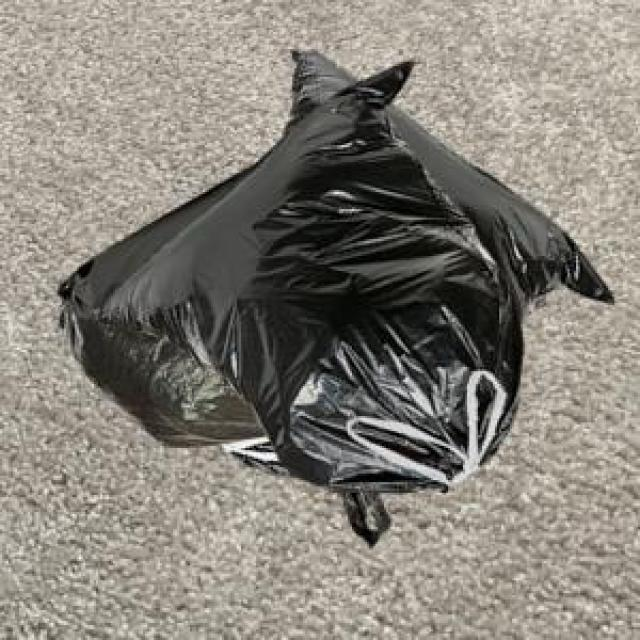Vinyl: (60, 51, 612, 543)
